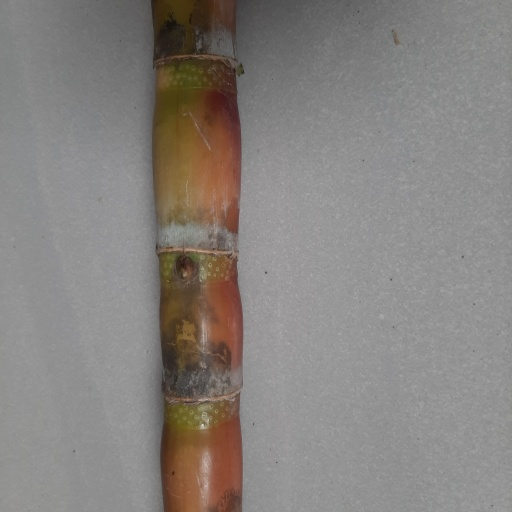Bud: (174, 254, 195, 283)
